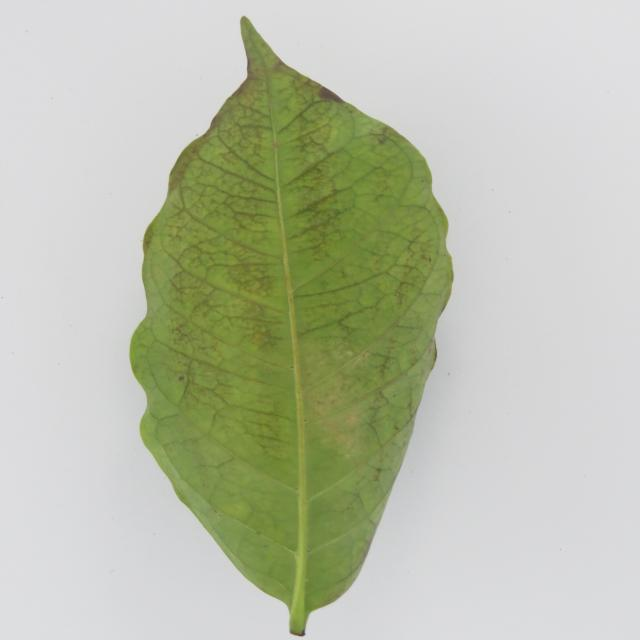DeficienciaNutricional-Calcio: (130, 18, 452, 635)
